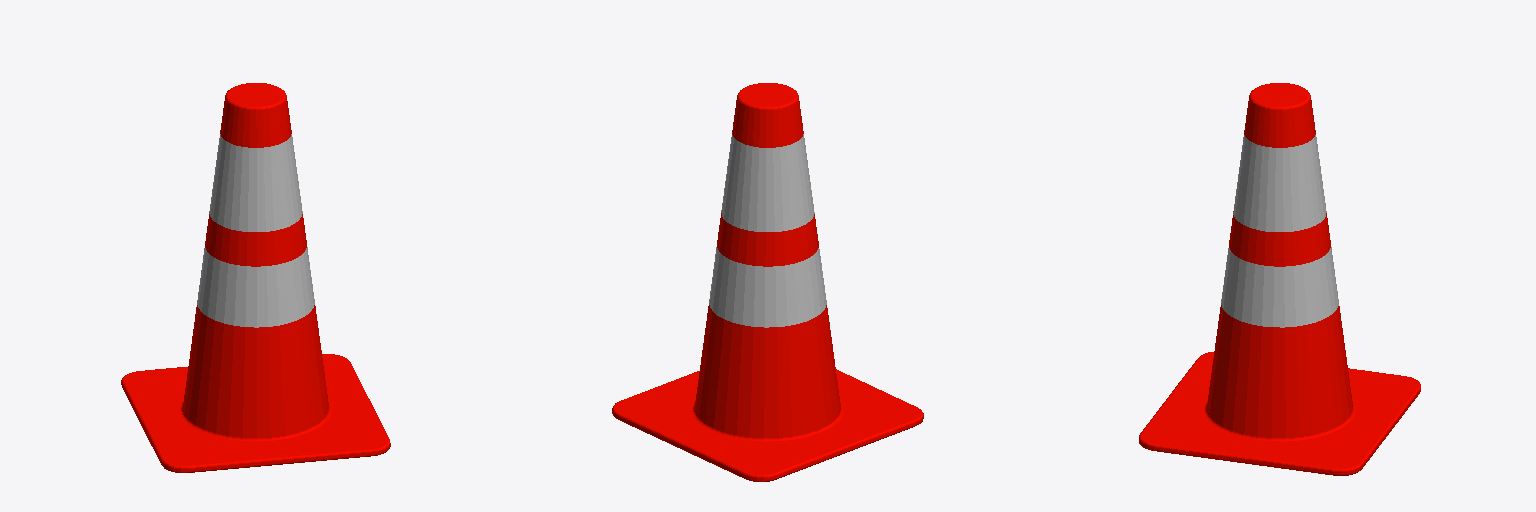
File: traffic_cone.obj
3 views of the same model, side by side, from view 1: azimuth 30°, elevation 25°; view 2: azimuth 150°, elevation 25°; view 3: azimuth 270°, elevation 25° (orthographic).
Visible parts, largest first — view 1: Traffic_Cone; view 2: Traffic_Cone; view 3: Traffic_Cone.
Part boxes in pixels (left/top/right/bottom): Traffic_Cone: left=121, top=83, right=390, bottom=472; Traffic_Cone: left=612, top=83, right=923, bottom=481; Traffic_Cone: left=1139, top=83, right=1420, bottom=475.
Size of the model in its own units: 2.12 by 2.66 by 2.12.